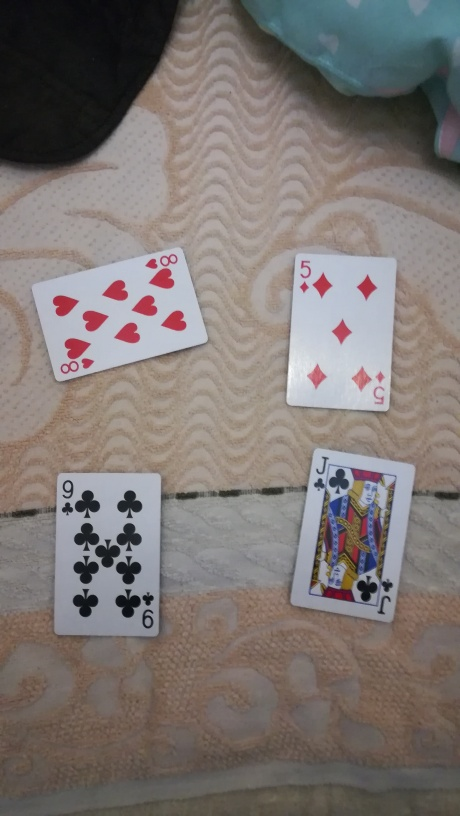fk 5: (274, 249, 420, 422)
hx 8: (1, 226, 222, 388)
mh 9: (36, 466, 178, 637)
mh j: (285, 439, 409, 625)
